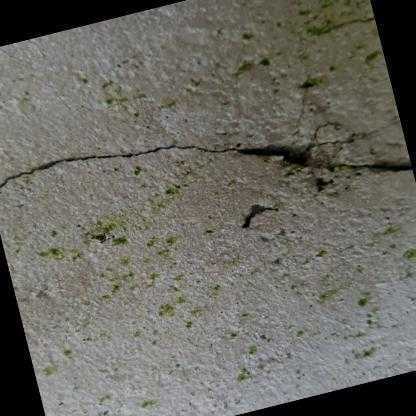crack: (0, 139, 413, 188)
